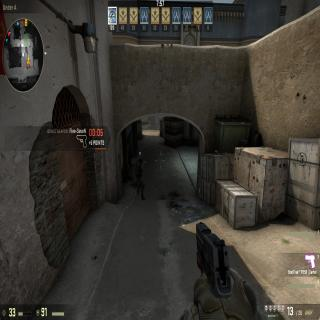CT-Body: (135, 157, 145, 200)
CT-Head: (138, 157, 142, 164)
